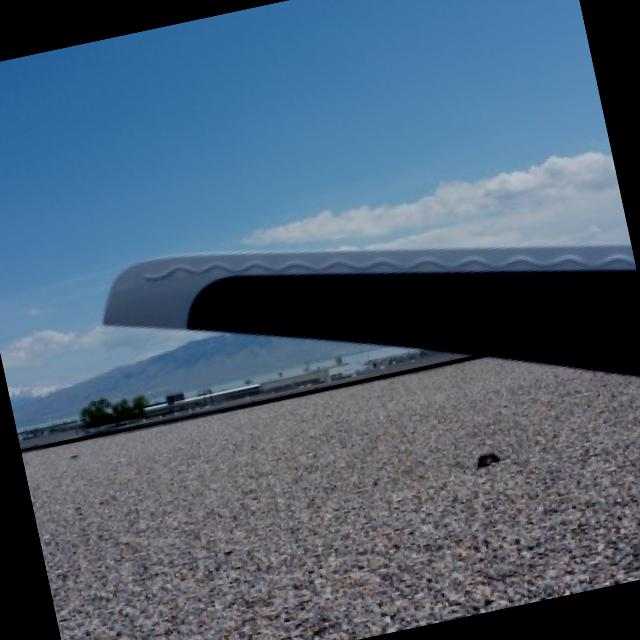healthy: (104, 242, 640, 370)
